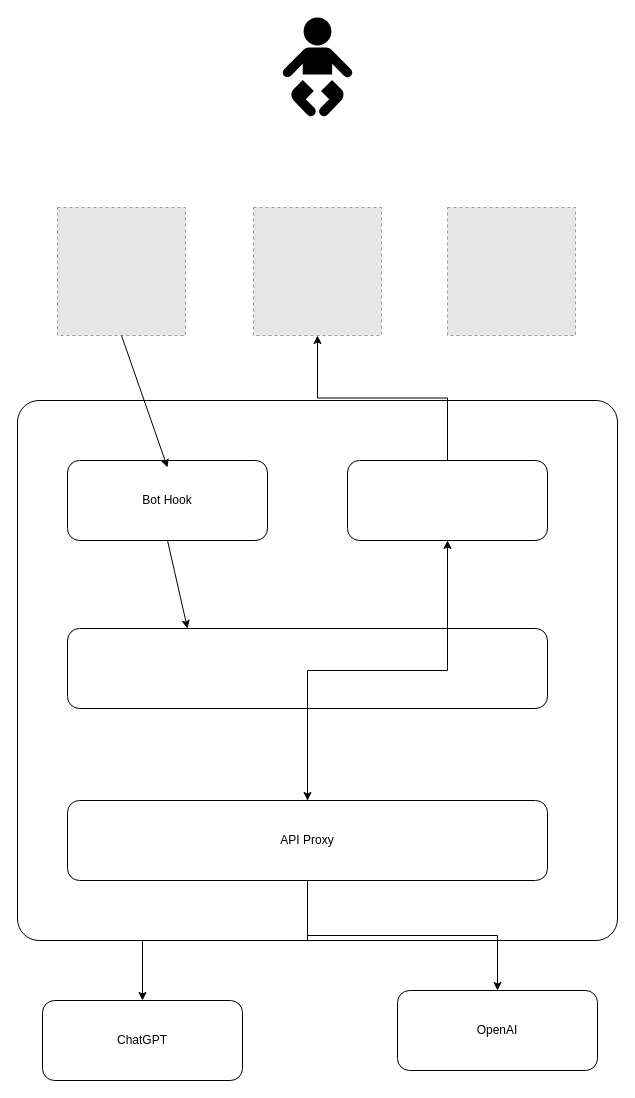
The diagram is 635 pixels wide and 1098 high, and some of its shapes have lost their labels. Grey dashed boxes stand in for pictures. The shapes that lost their labels are listed below. From the top down, each one's centre as x and y in pixels, then its label:
At point 447,500: "Bot API".
At point 307,668: "Command Paser".
